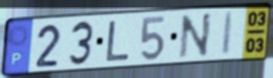2: (32, 20, 65, 71)
3: (67, 19, 95, 67)
5: (138, 14, 169, 62)
I: (220, 9, 237, 57)
L: (104, 19, 132, 63)
N: (178, 11, 214, 61)
